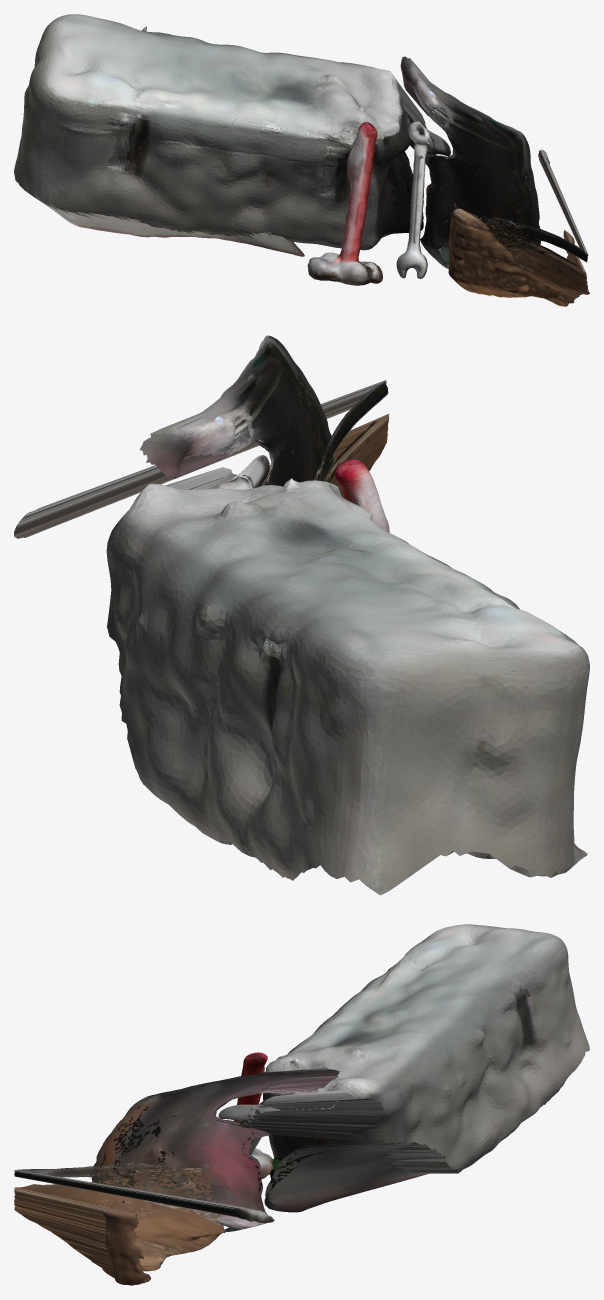
File: gen3dsr_no_bg.glb
3 views of the same model, one above another, from view 1: azimuth 30°, elevation 25°; view 2: azimuth 150°, elevation 25°; view 3: azimuth 270°, elevation 25° (orthographic). The views are drawn at different scales.
Parts seen in each view (by area): view 1: 4.obj, 5.obj, 3.obj, 1.obj, 0.obj, 2.obj; view 2: 4.obj, 5.obj, 2.obj, 3.obj, 1.obj, 0.obj; view 3: 4.obj, 5.obj, 3.obj, 2.obj, 1.obj, 0.obj.
Part boxes in pixels (bbox=[...]): 4.obj: bbox=[14, 14, 437, 256]; 5.obj: bbox=[400, 56, 540, 268]; 3.obj: bbox=[448, 208, 589, 306]; 1.obj: bbox=[307, 122, 382, 285]; 0.obj: bbox=[396, 121, 450, 278]; 2.obj: bbox=[481, 149, 588, 262]; 4.obj: bbox=[106, 467, 589, 895]; 5.obj: bbox=[139, 335, 333, 486]; 2.obj: bbox=[14, 380, 388, 538]; 3.obj: bbox=[261, 414, 389, 498]; 1.obj: bbox=[334, 459, 389, 532]; 0.obj: bbox=[218, 455, 269, 489]; 4.obj: bbox=[238, 924, 589, 1212]; 5.obj: bbox=[91, 1068, 340, 1233]; 3.obj: bbox=[14, 1168, 225, 1285]; 2.obj: bbox=[14, 1163, 273, 1222]; 1.obj: bbox=[233, 1052, 273, 1178]; 0.obj: bbox=[218, 1100, 280, 1155].
Bounding box in the file's own units: 0.7864 × 0.366 × 0.9387.
6 materials, 6 textured.
